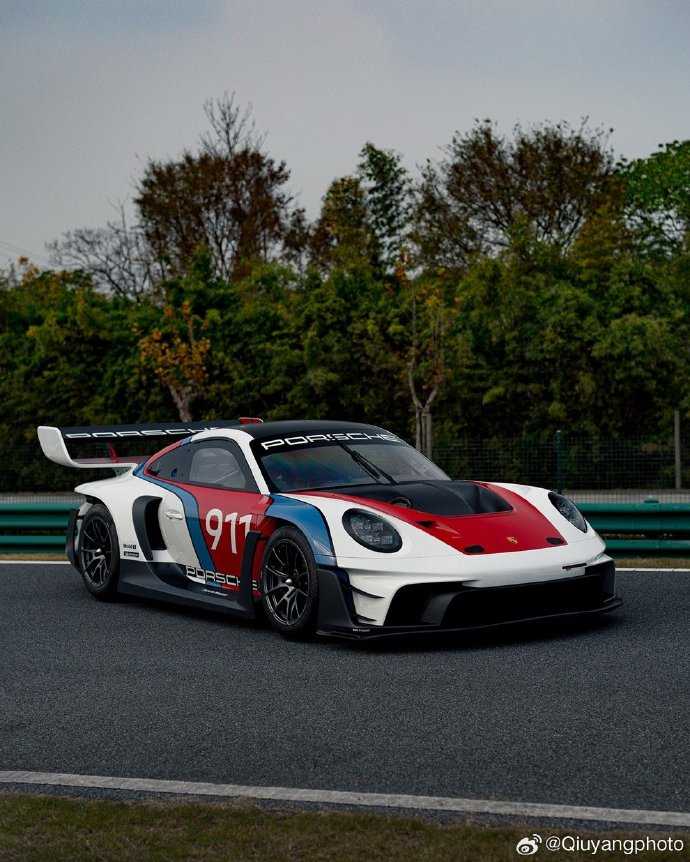other: (37, 418, 625, 643)
